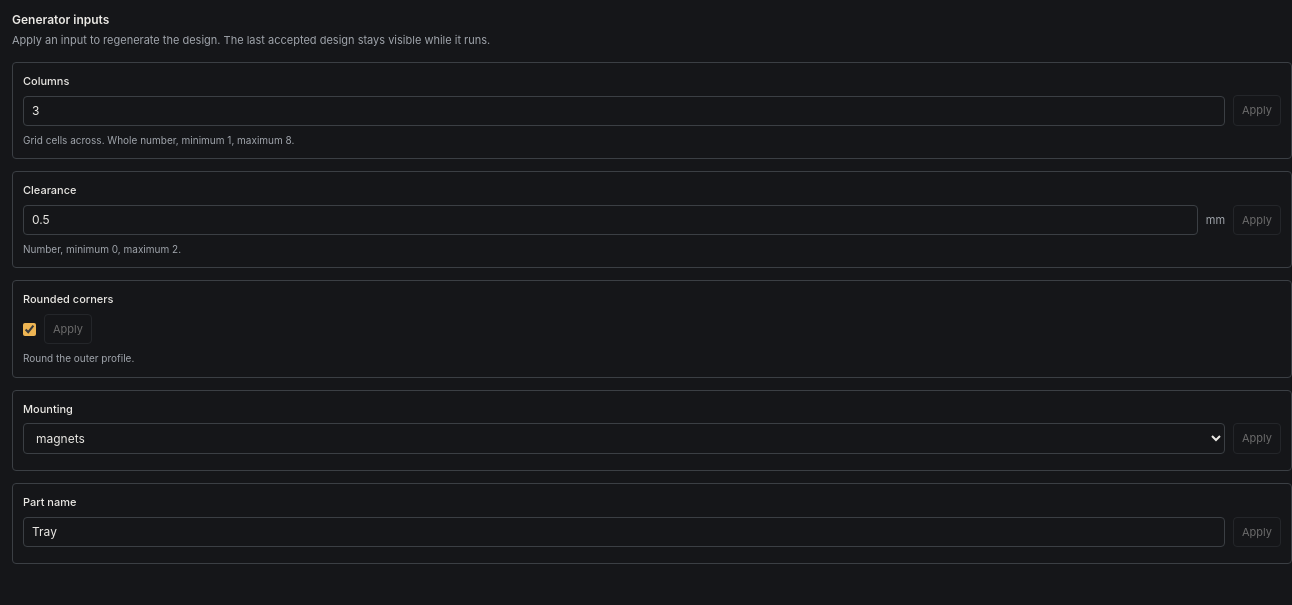
Test: source-driven generator inputs › retains invalid Columns text 0 without a request
Replace the text in the field labelled "Columns" with "0" at (624, 111), box [23,96,1225,126]
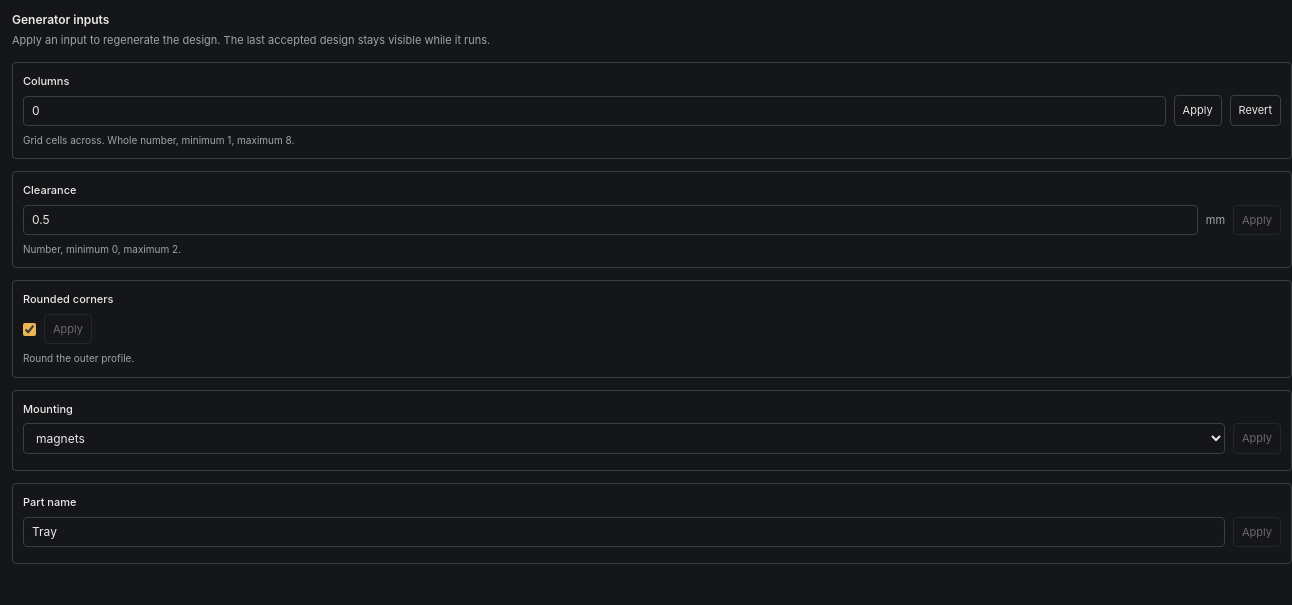
Click the button with aria-label "Apply Columns".
click(1198, 111)  # box [1174,95,1222,126]
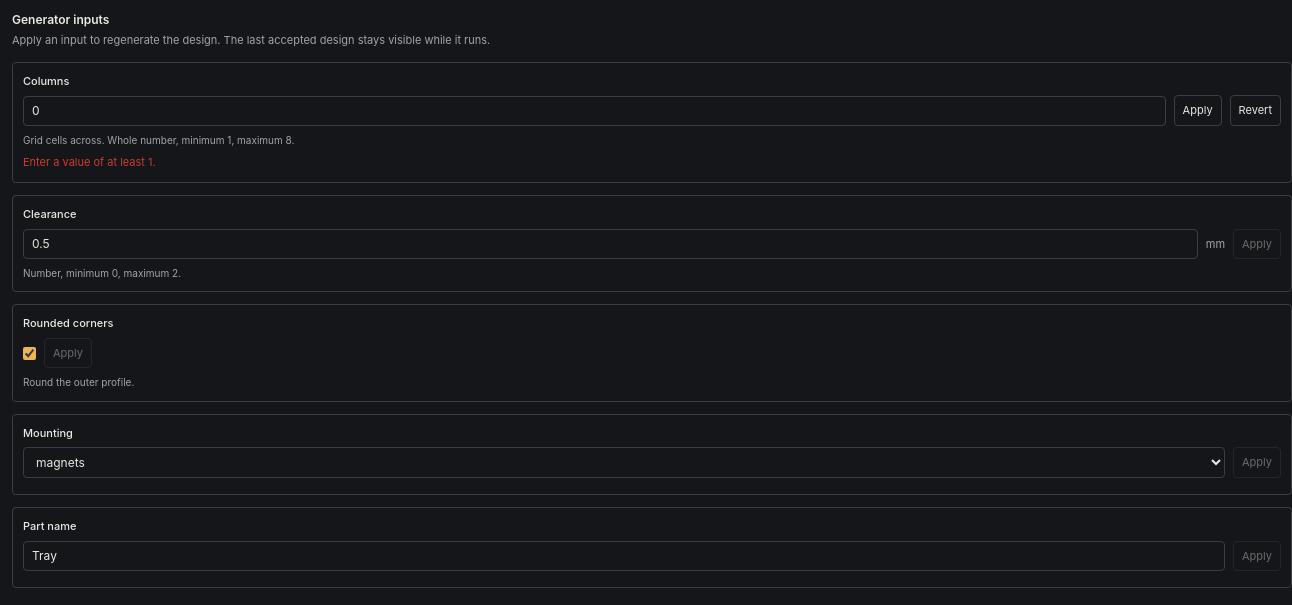
expect the message shows "at least 1": met, box [23,155,156,169]
